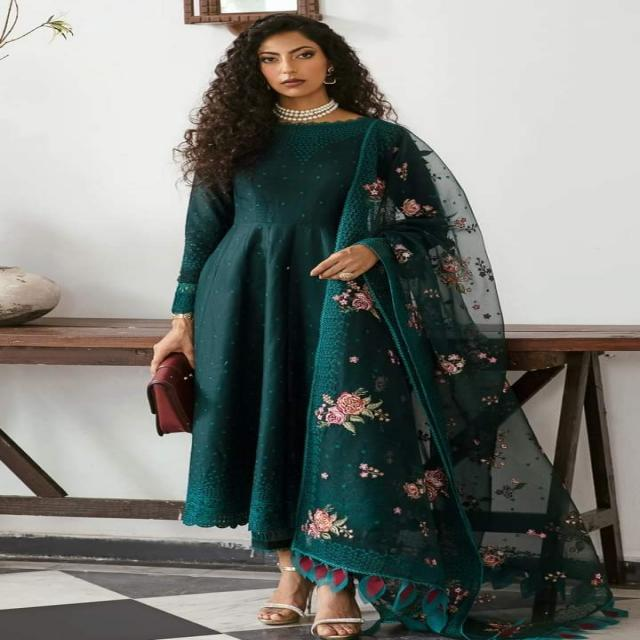female-dress: (186, 125, 595, 572)
